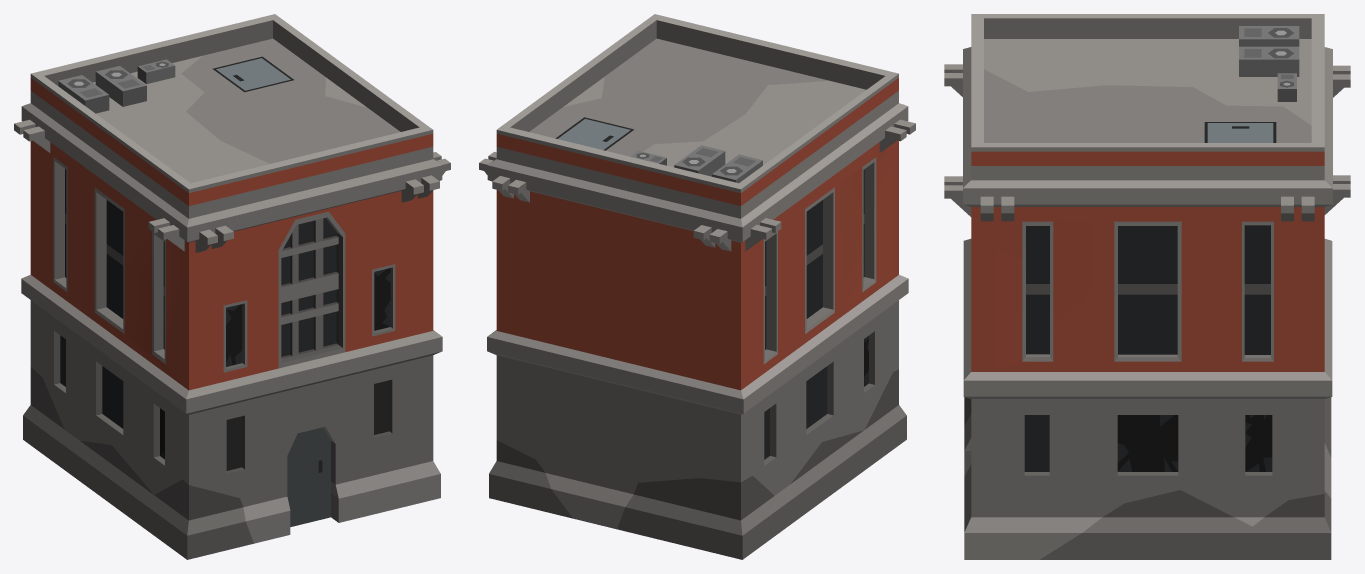
File: SA_Bld_WarehouseOld_Damaged_01.glb
The picture shows the model from 3 angles, left to right: view 1: azimuth 30°, elevation 25°; view 2: azimuth 150°, elevation 25°; view 3: azimuth 270°, elevation 25°; orthographic projection. The views are drawn at different scales.
Visible parts, largest first — view 1: SA_Bld_WarehouseOld_Damaged_01; view 2: SA_Bld_WarehouseOld_Damaged_01; view 3: SA_Bld_WarehouseOld_Damaged_01.
Part boxes in pixels (x1,y1,x2,y2): SA_Bld_WarehouseOld_Damaged_01: [14, 14, 450, 559]; SA_Bld_WarehouseOld_Damaged_01: [479, 14, 915, 559]; SA_Bld_WarehouseOld_Damaged_01: [944, 14, 1350, 559].
Size of the model in its own units: 5.71 by 6.97 by 6.26.
1 material, 1 textured.
